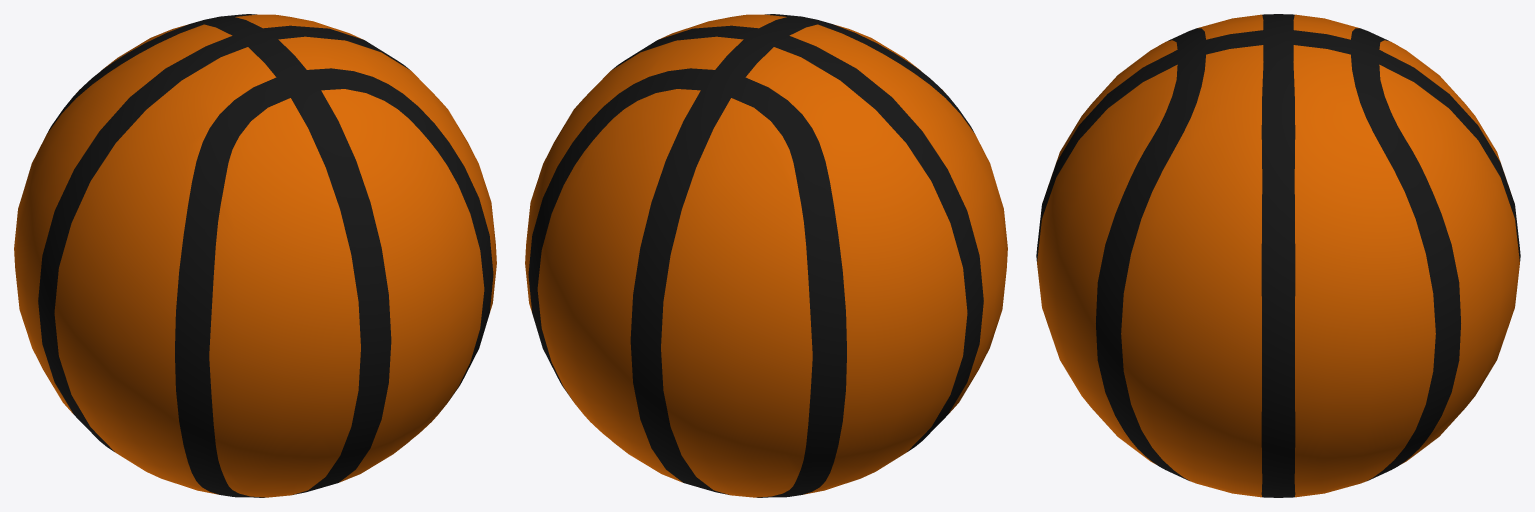
Rendered from Ball Orange.fbx.
3 renders of one model, left to right at view 1: azimuth 30°, elevation 25°; view 2: azimuth 150°, elevation 25°; view 3: azimuth 270°, elevation 25°, orthographic.
Visible parts, largest first — view 1: Ball Orange; view 2: Ball Orange; view 3: Ball Orange.
Boxes of the visible parts, x1,y1,x2,y2 form: Ball Orange: [14, 14, 496, 497]; Ball Orange: [525, 14, 1007, 497]; Ball Orange: [1036, 14, 1520, 497].
Bounding box in the file's own units: 88.89 × 88.89 × 88.89.
